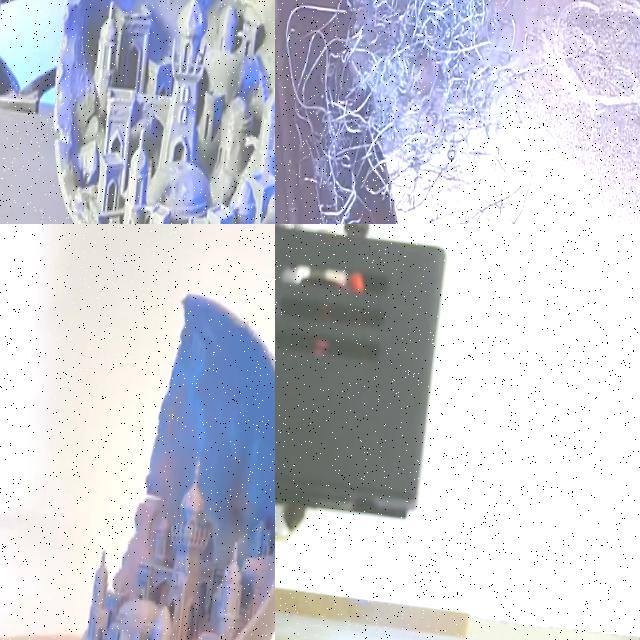spaghetti: (275, 0, 611, 224)
